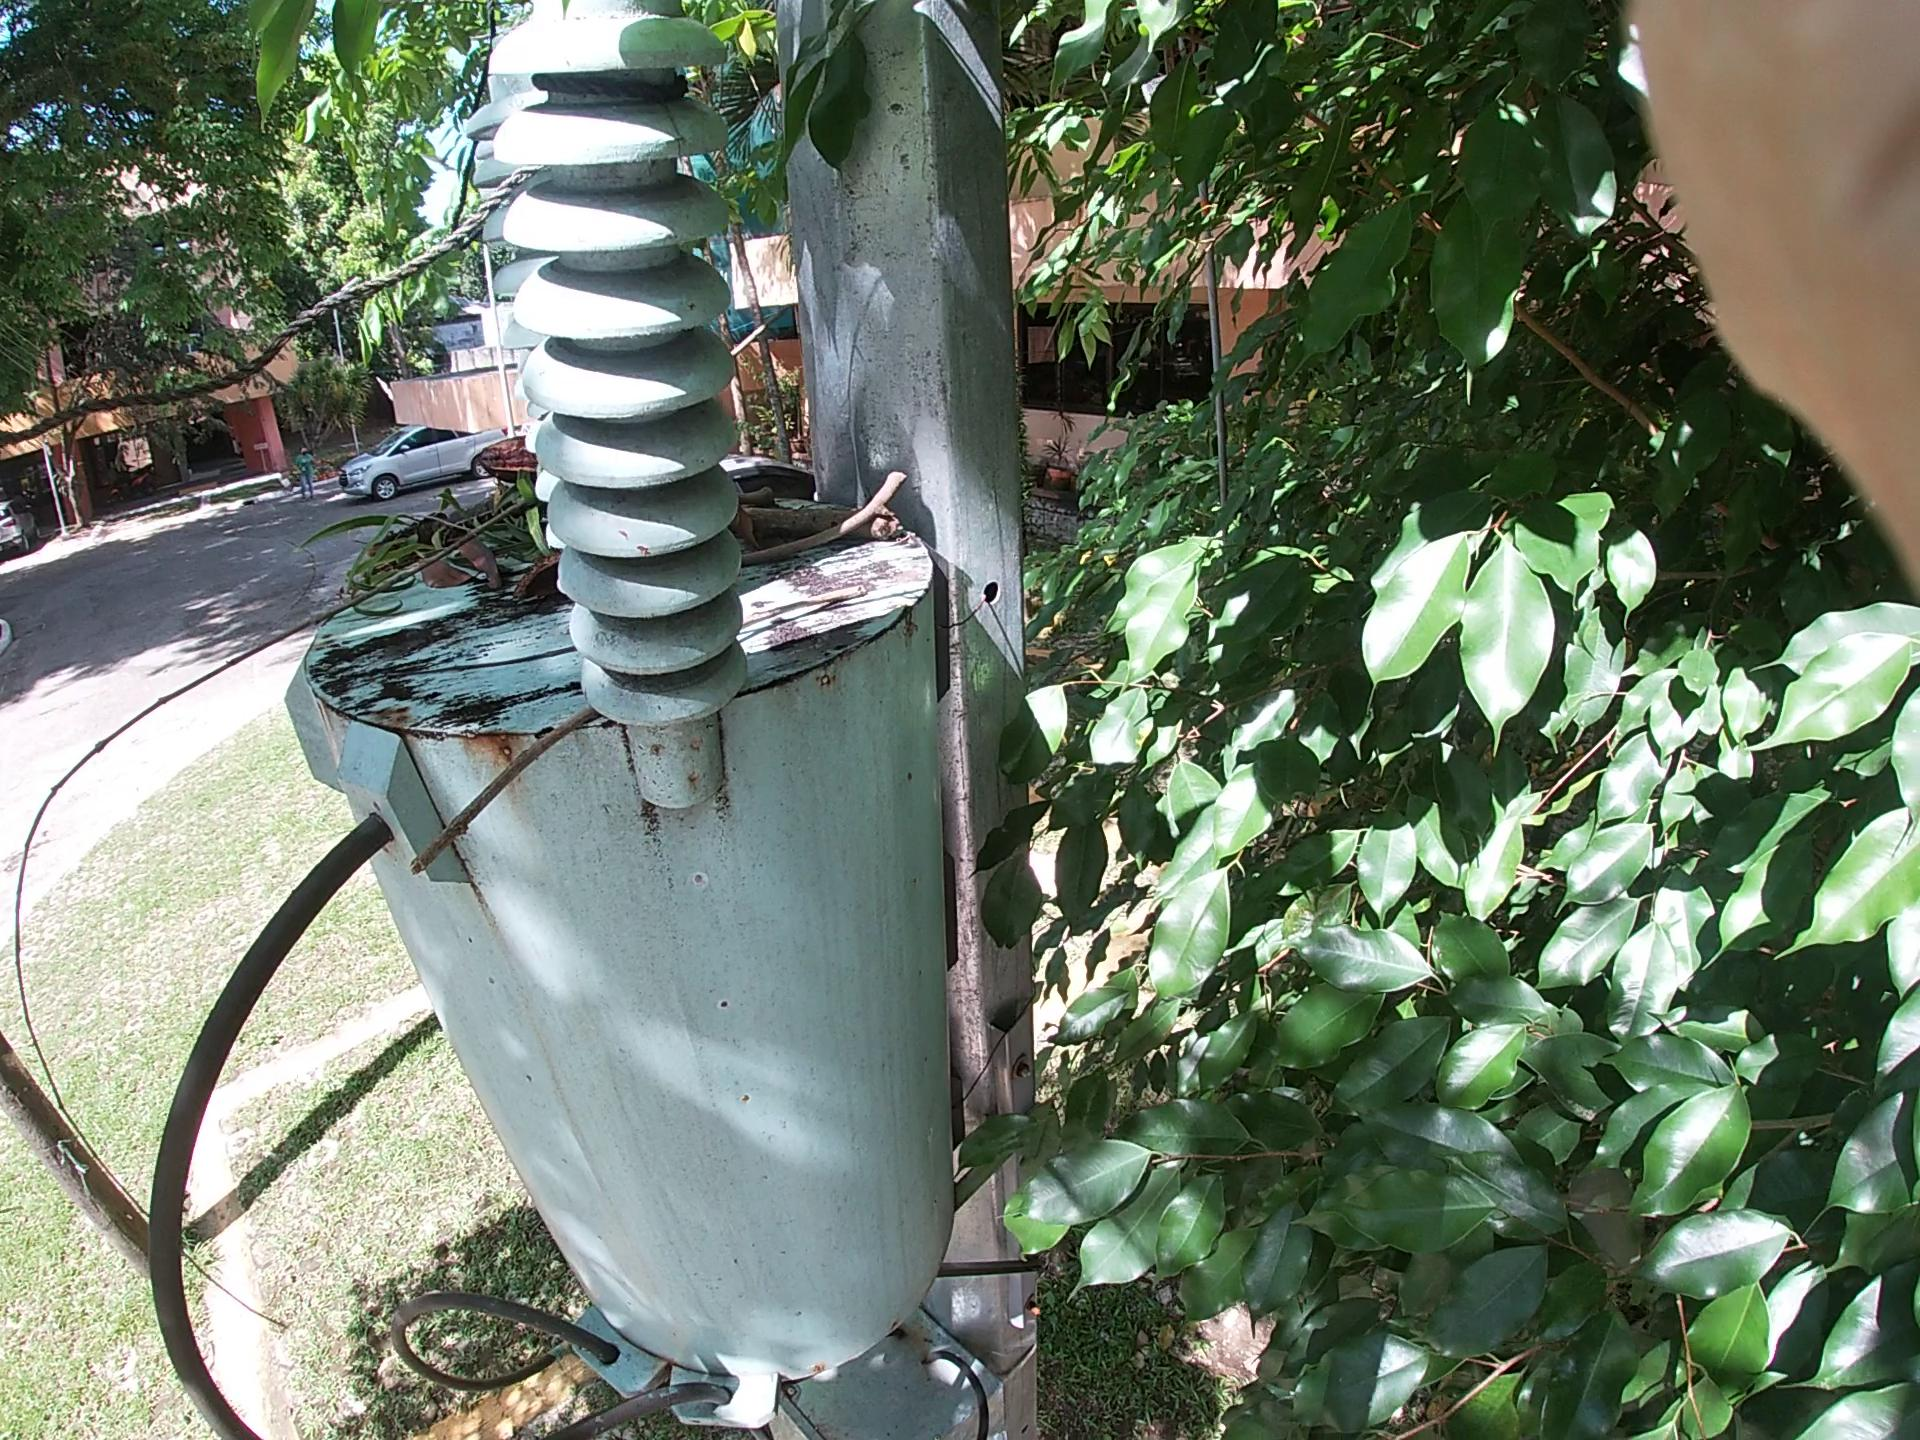branch with leaves: (259, 369, 877, 653)
tree branch: (60, 253, 845, 944), (410, 523, 996, 871), (750, 451, 930, 584), (723, 464, 773, 517)
